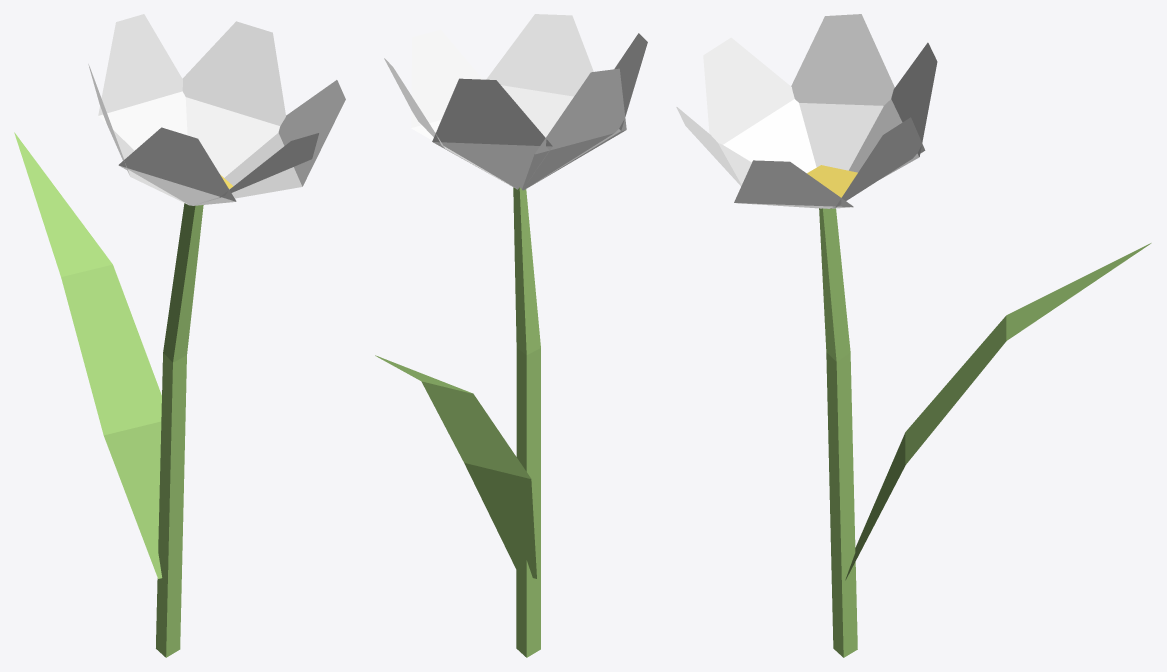
Rendered from Flower_e_TwoS_06.fbx.
3 views of the same model, side by side, from view 1: azimuth 30°, elevation 25°; view 2: azimuth 150°, elevation 25°; view 3: azimuth 270°, elevation 25° (orthographic).
Parts seen in each view (by area): view 1: Flower_e_TwoS_06; view 2: Flower_e_TwoS_06; view 3: Flower_e_TwoS_06.
Part boxes in pixels (box(x1,y1,x2,y2)): Flower_e_TwoS_06: box(14, 14, 345, 657); Flower_e_TwoS_06: box(375, 14, 647, 657); Flower_e_TwoS_06: box(676, 14, 1151, 657).
Bounding box in the file's own units: 0.1467 × 0.3765 × 0.2691.
